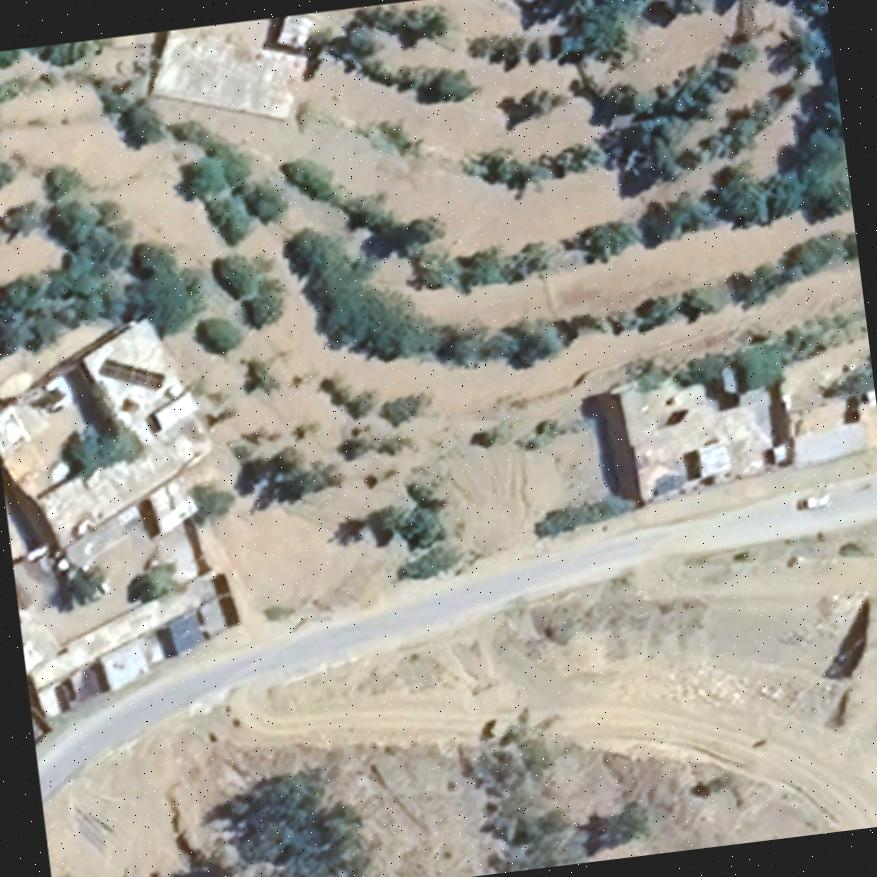Solarpanel: (89, 357, 166, 393)
